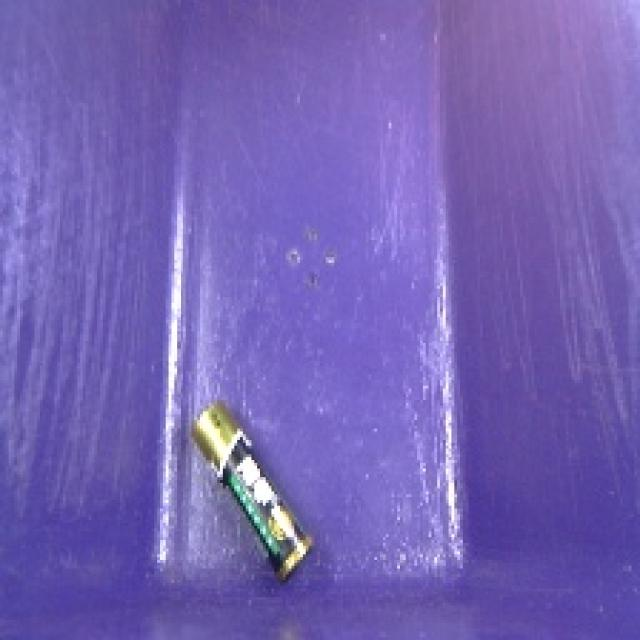battery: (175, 388, 328, 588)
